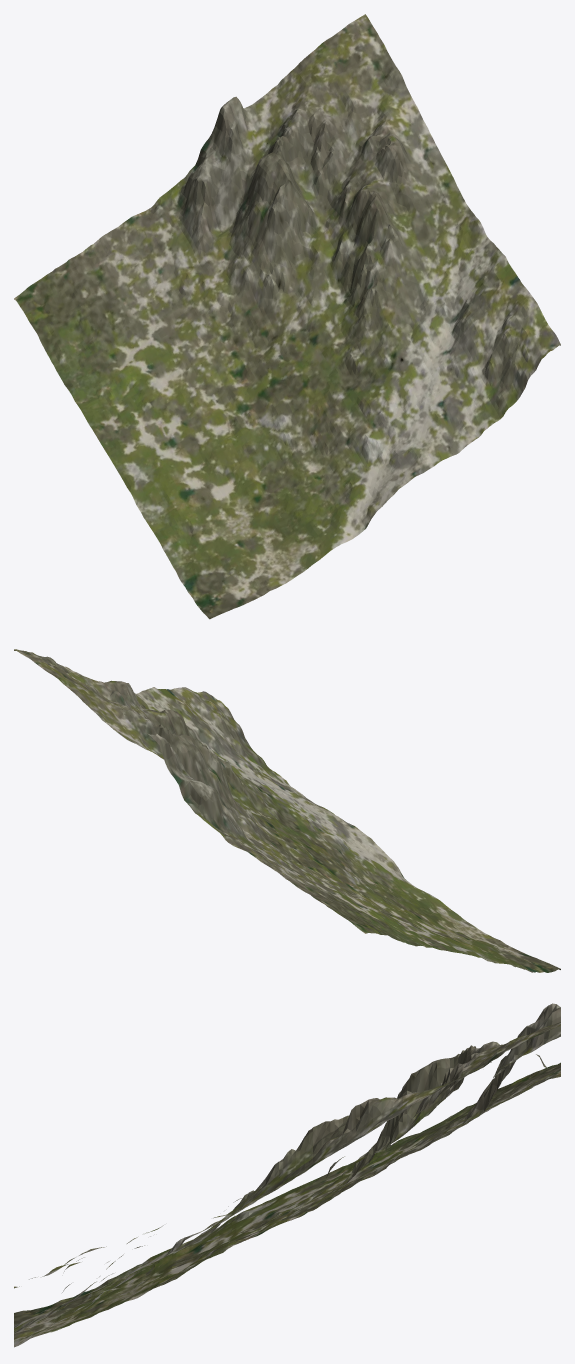
The picture shows the model from 3 angles, top to bottom: view 1: azimuth 30°, elevation 25°; view 2: azimuth 150°, elevation 25°; view 3: azimuth 270°, elevation 25°; orthographic projection. The views are drawn at different scales.
Size of the model in its own units: 250 by 257 by 241.
Materials: 1 (1 with a texture image).
